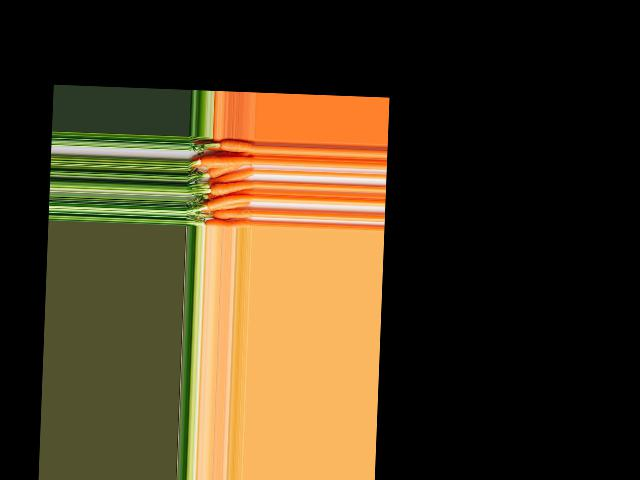carrot: (213, 137, 257, 152)
